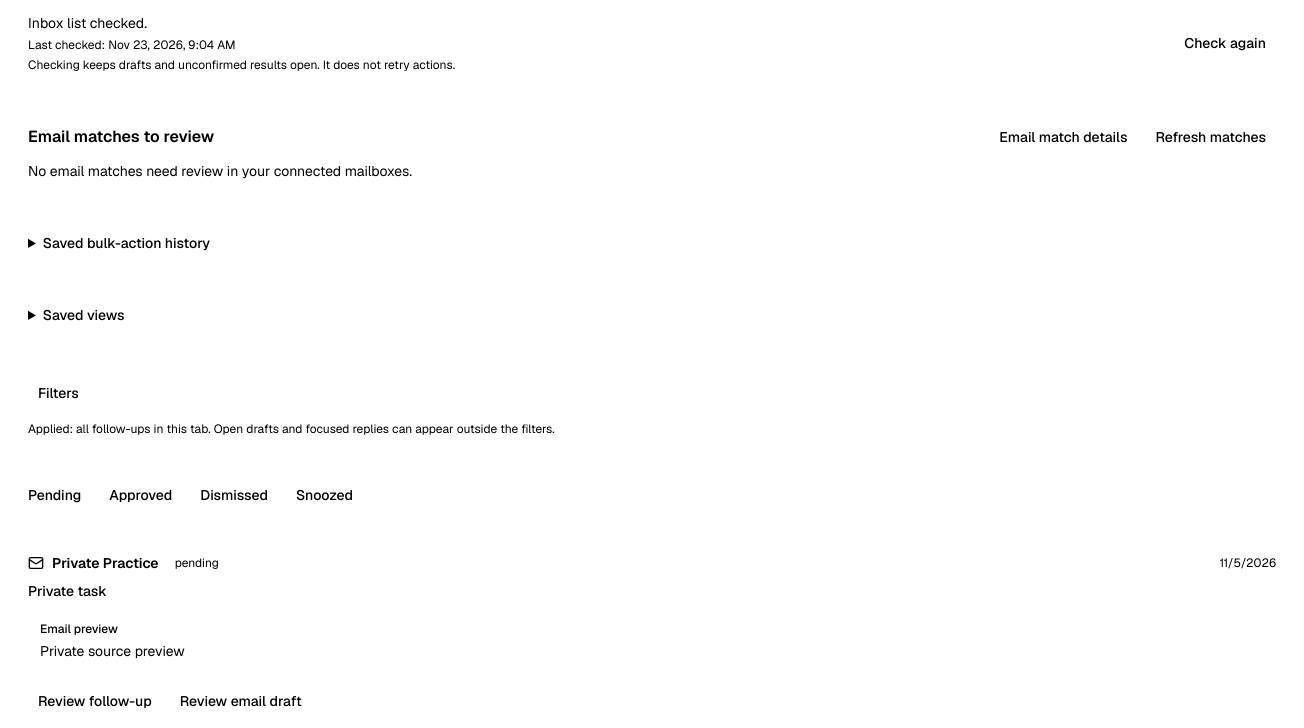
Scenario: retains authorized edits after a transient failure and never retries a write automatically
The width and height of the screenshot is (1304, 728).
(page scrolled)
Click the button "Review follow-up". click: x=95, y=701
box: [28,685,162,717]
(page scrolled)
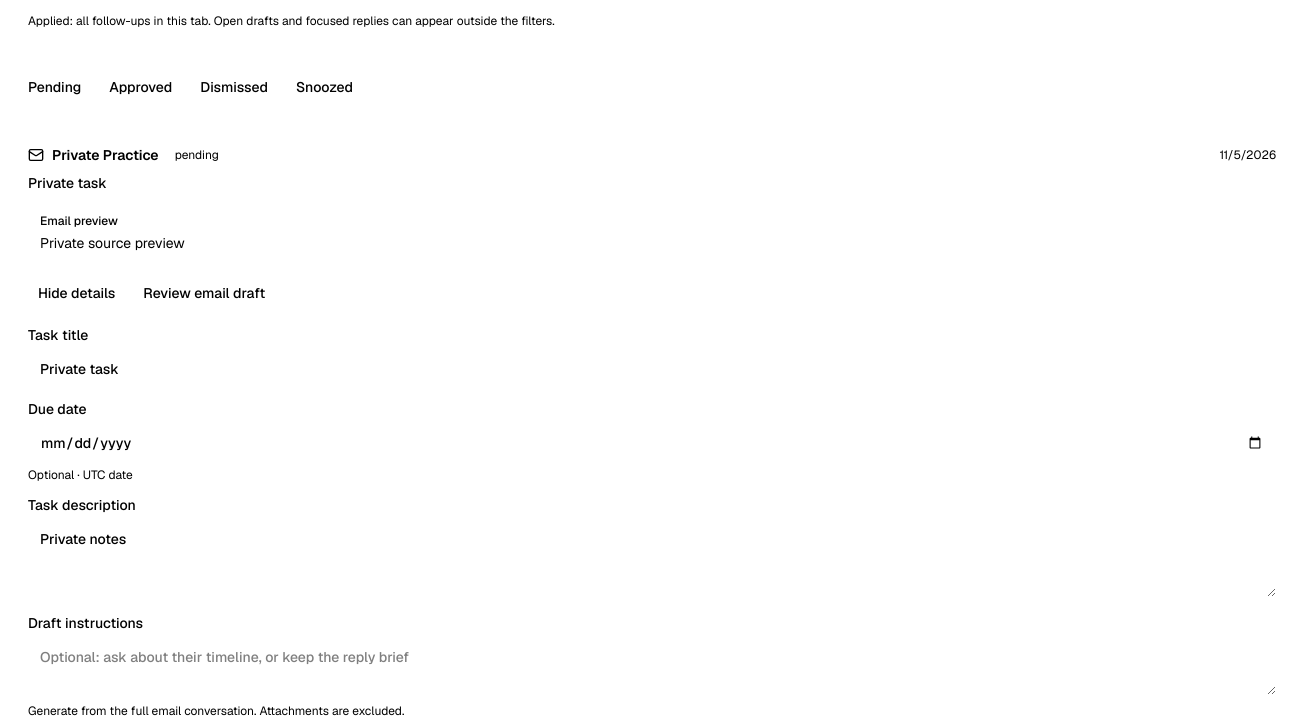
Replace the text in the field labelled "Task title" with "Retain my edit". click: x=652, y=369
box: [28,351,1276,387]
(page scrolled)
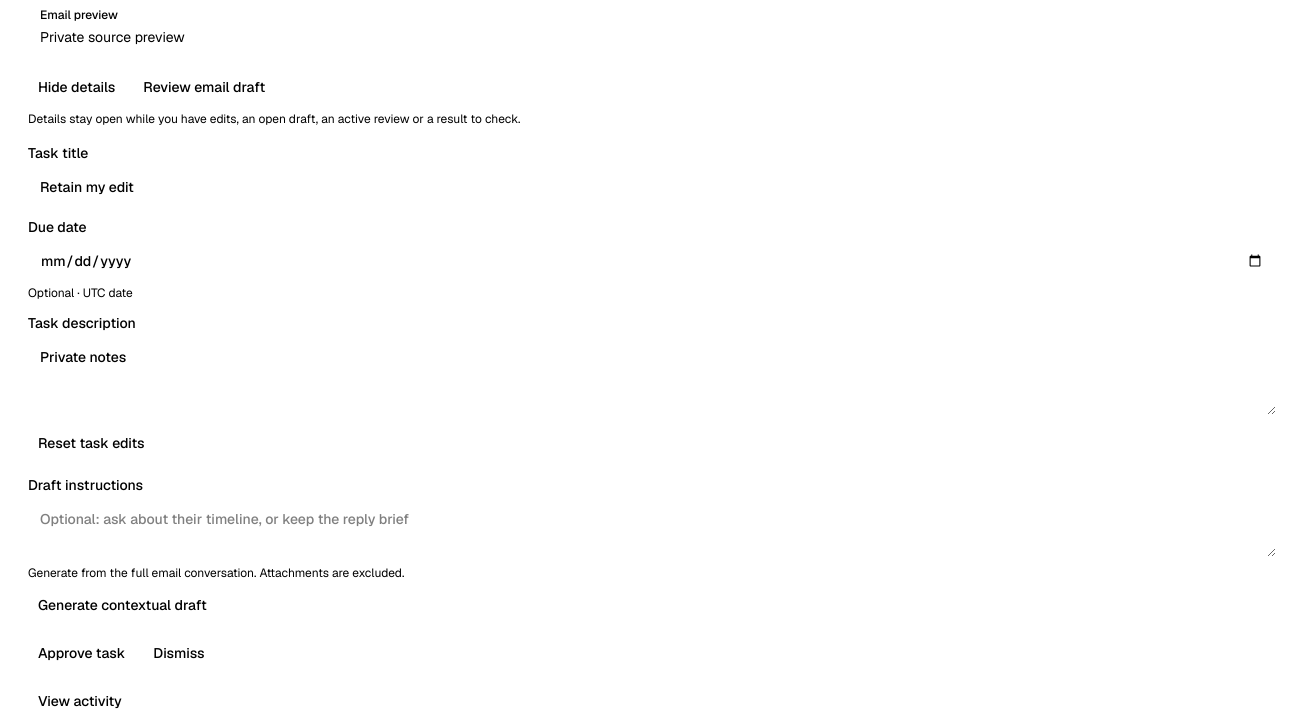
Click the button "Approve task". click: x=82, y=653
box: [28,637,135,669]
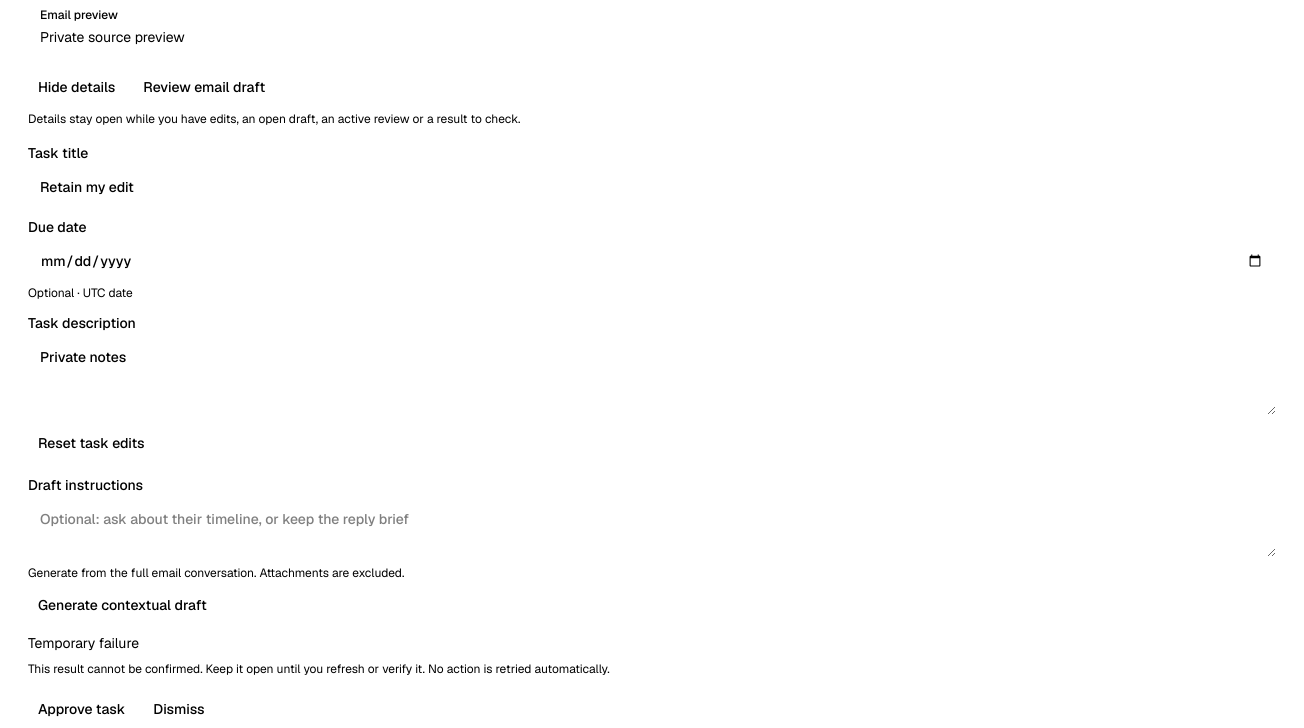
Expected: the text "Temporary failure" is shown, [28,634,139,652]
